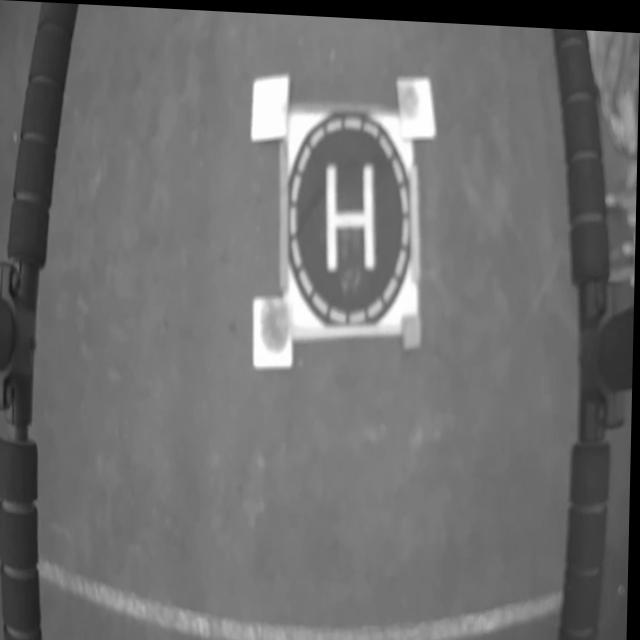Helipad: (326, 156, 377, 270)
